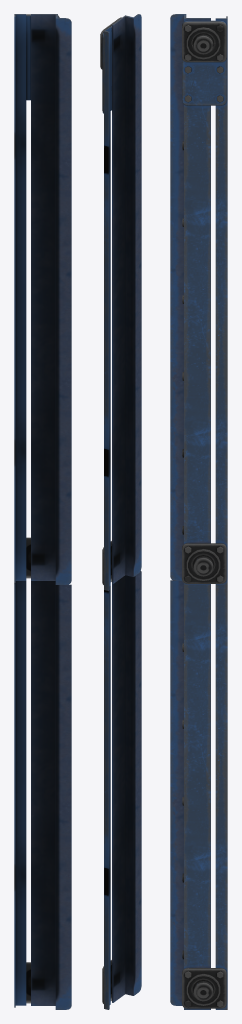
File: conveyor3.dae
3 renders of one model, left to right at view 1: azimuth 90°, elevation 25°; view 2: azimuth 150°, elevation 25°; view 3: azimuth 270°, elevation 25°, orthographic.
Visible parts, largest first — view 1: Conveyor01Frame02_Conveyor_0.017; view 2: Conveyor01Frame02_Conveyor_0.017; view 3: Conveyor01Frame02_Conveyor_0.017.
Part boxes in pixels (x1,y1,x2,y2): Conveyor01Frame02_Conveyor_0.017: (14, 14, 71, 1009); Conveyor01Frame02_Conveyor_0.017: (100, 14, 141, 1009); Conveyor01Frame02_Conveyor_0.017: (170, 14, 227, 1009).
Size of the model in its own units: 0.0783 by 0.1845 by 3.5.
1 material, 1 textured.
